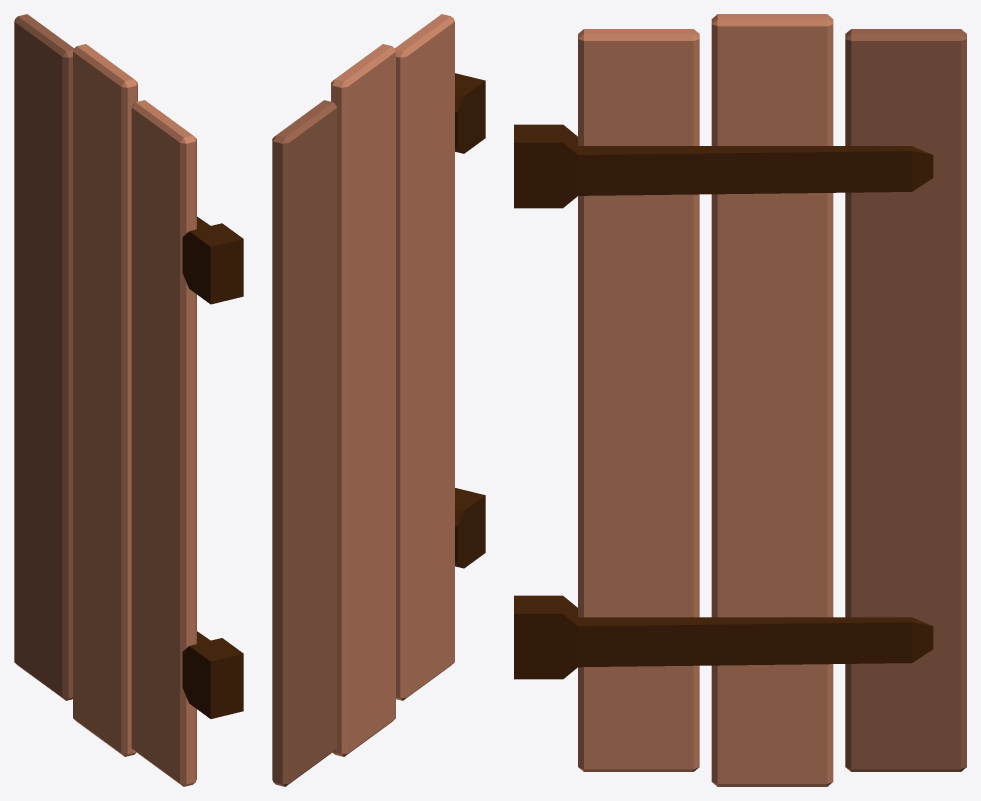
File: Shutter A.glb
3 views of the same model, side by side, from view 1: azimuth 30°, elevation 25°; view 2: azimuth 150°, elevation 25°; view 3: azimuth 270°, elevation 25° (orthographic). The views are drawn at different scales.
Parts seen in each view (by area): view 1: Shutter A; view 2: Shutter A; view 3: Shutter A.
Part boxes in pixels (x1,y1,x2,y2): Shutter A: [14, 14, 243, 786]; Shutter A: [272, 14, 485, 786]; Shutter A: [514, 14, 966, 786].
Size of the model in its own units: 0.015 by 0.2924 by 0.1563.
